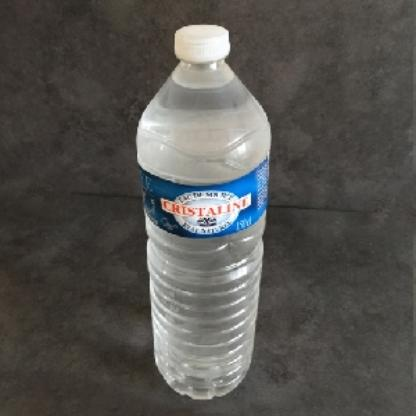Plastic Bottle: (137, 23, 273, 400)
